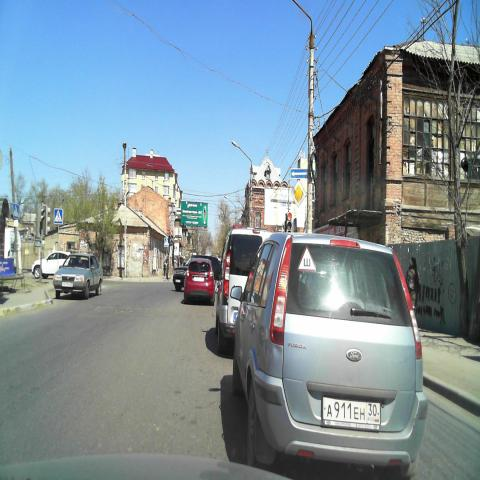5_7_2: (289, 169, 308, 179)
